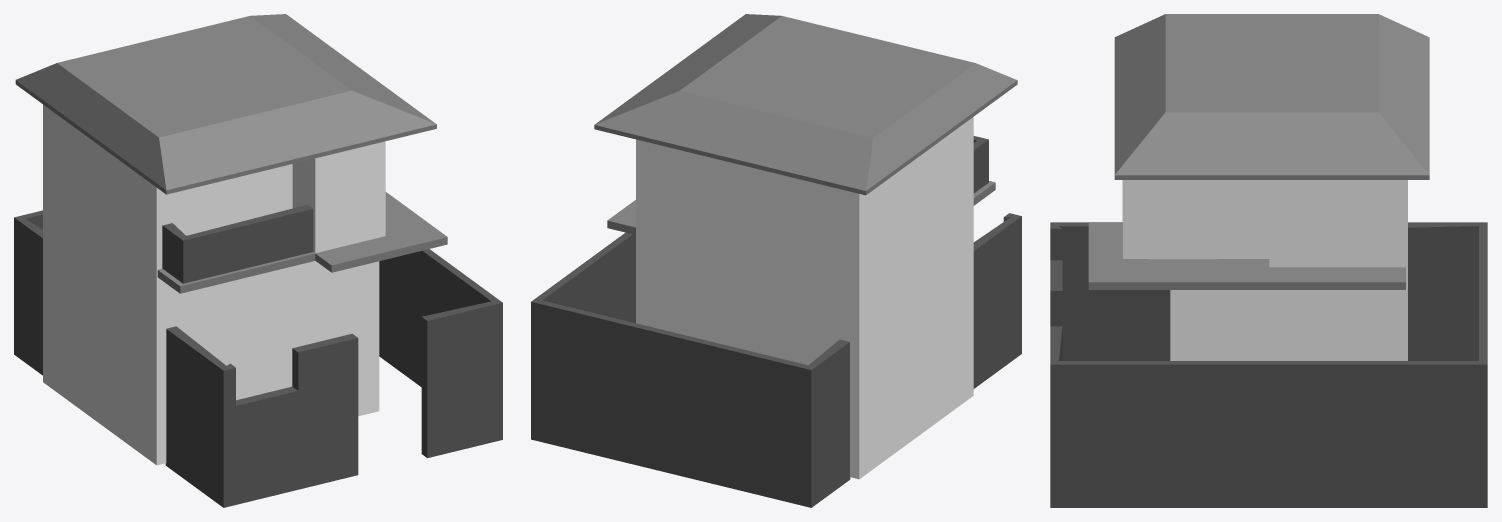
Rendered from house.glb.
The picture shows the model from 3 angles, left to right: view 1: azimuth 30°, elevation 25°; view 2: azimuth 150°, elevation 25°; view 3: azimuth 270°, elevation 25°; orthographic projection. The views are drawn at different scales.
Visible parts, largest first — view 1: house; view 2: house; view 3: house.
Boxes of the visible parts, x1,y1,x2,y2 form: house: (14, 14, 502, 507); house: (531, 14, 1021, 507); house: (1050, 14, 1487, 507).
Bounding box in the file's own units: 1.49 × 1.55 × 1.77.
1 material, 1 textured.
